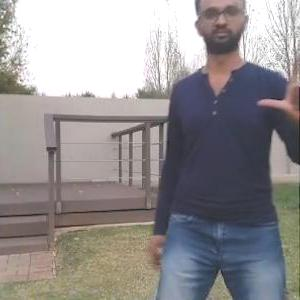land_hand: (255, 46, 299, 129)
